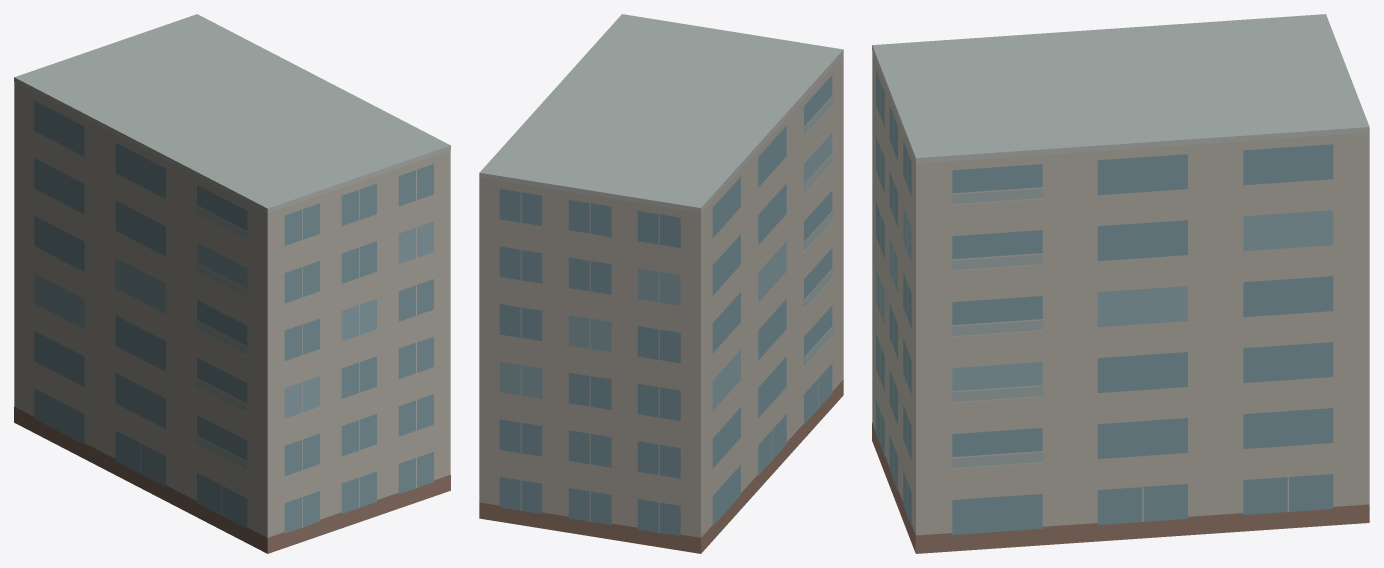
The model's file is survey-upis-32738755.glb.
The picture shows the model from 3 angles, left to right: view 1: azimuth 30°, elevation 25°; view 2: azimuth 150°, elevation 25°; view 3: azimuth 270°, elevation 25°; orthographic projection. The views are drawn at different scales.
Visible parts, largest first — view 1: survey-upis-32738755.tmp; view 2: survey-upis-32738755.tmp; view 3: survey-upis-32738755.tmp.
Part boxes in pixels (x1,y1,x2,y2): survey-upis-32738755.tmp: (14, 14, 450, 553); survey-upis-32738755.tmp: (479, 14, 843, 553); survey-upis-32738755.tmp: (872, 14, 1369, 553).
Size of the model in its own units: 13.6 by 17.4 by 19.83.
